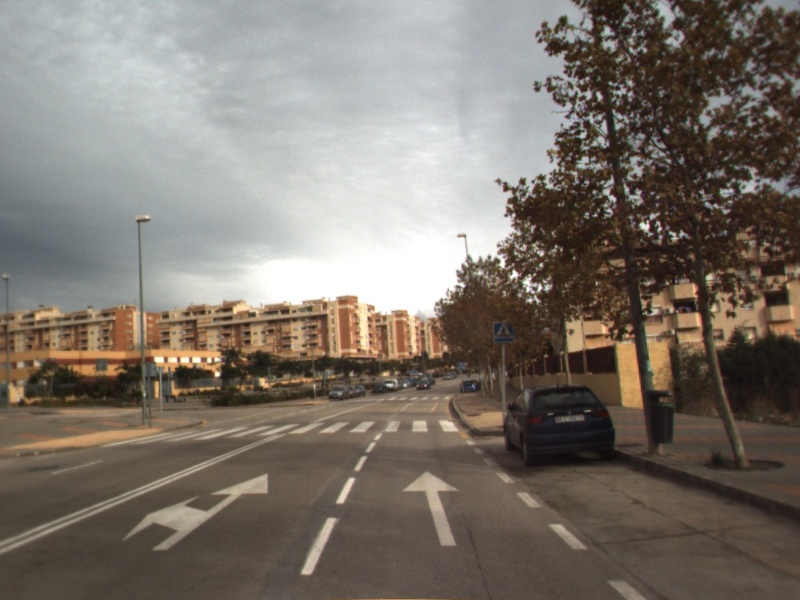STRAIGHT: (400, 468, 463, 548)
STRAIGHT_LEFT: (119, 471, 270, 553)
